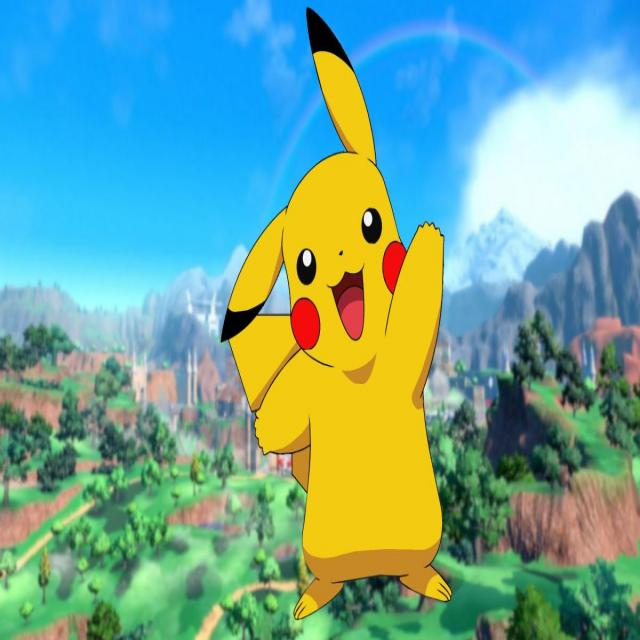Pikachu: (172, 0, 506, 625)
